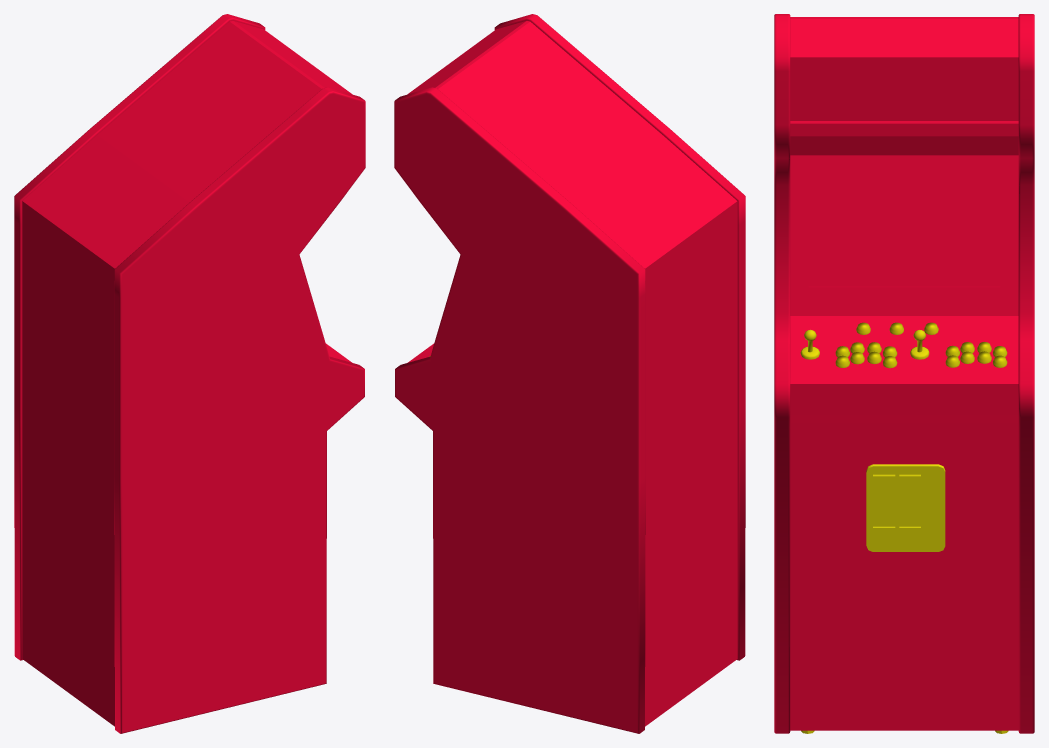
File: arcade.fbx
3 renders of one model, left to right at view 1: azimuth 30°, elevation 25°; view 2: azimuth 150°, elevation 25°; view 3: azimuth 270°, elevation 25°, orthographic. The views are drawn at different scales.
Parts seen in each view (by area): view 1: Cylinder.001; view 2: Cylinder.001; view 3: Cylinder.001.
Boxes of the visible parts, box(x1,y1,x2,y2) form: Cylinder.001: box(14, 14, 365, 733); Cylinder.001: box(394, 14, 745, 733); Cylinder.001: box(774, 14, 1034, 733).
Size of the model in its own units: 85.79 by 200 by 64.53.
